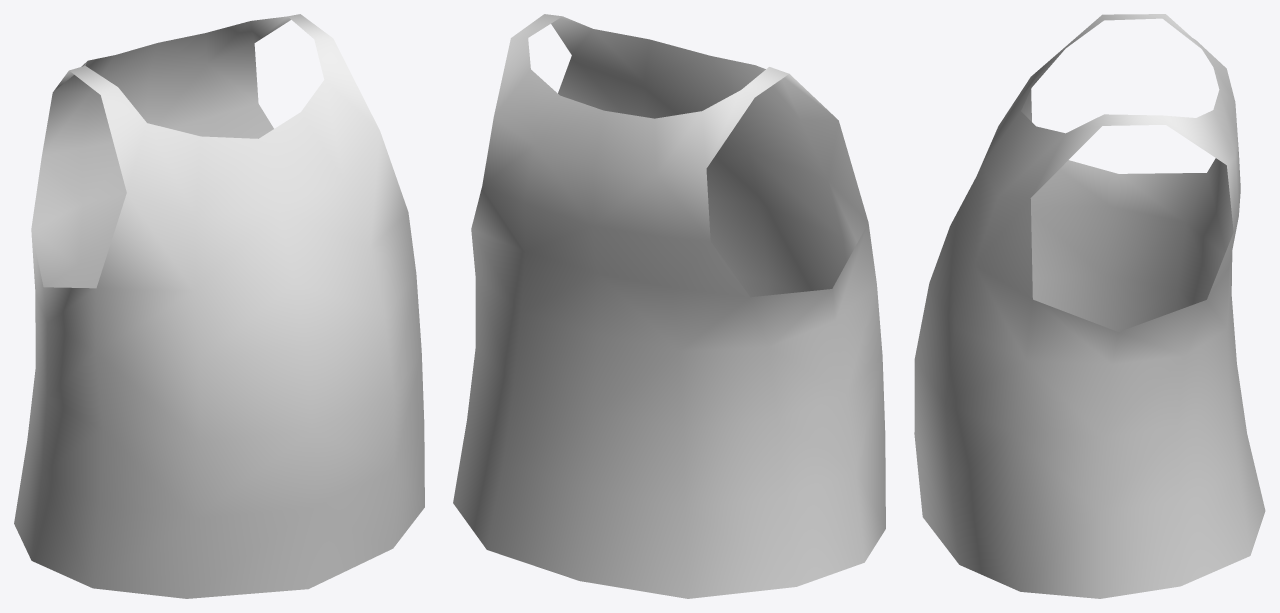
Rendered from Outerwear_White_013.glb.
The picture shows the model from 3 angles, left to right: view 1: azimuth 30°, elevation 25°; view 2: azimuth 150°, elevation 25°; view 3: azimuth 270°, elevation 25°; orthographic projection. The views are drawn at different scales.
Visible parts, largest first — view 1: Outerwear_White_013; view 2: Outerwear_White_013; view 3: Outerwear_White_013.
Boxes of the visible parts, bbox=[...] form: Outerwear_White_013: bbox=[14, 14, 424, 598]; Outerwear_White_013: bbox=[453, 14, 885, 598]; Outerwear_White_013: bbox=[914, 14, 1265, 598].
Size of the model in its own units: 0.4419 by 0.519 by 0.3668.
1 material, 1 textured.
